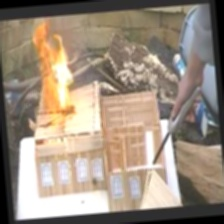fire: (25, 14, 80, 118)
